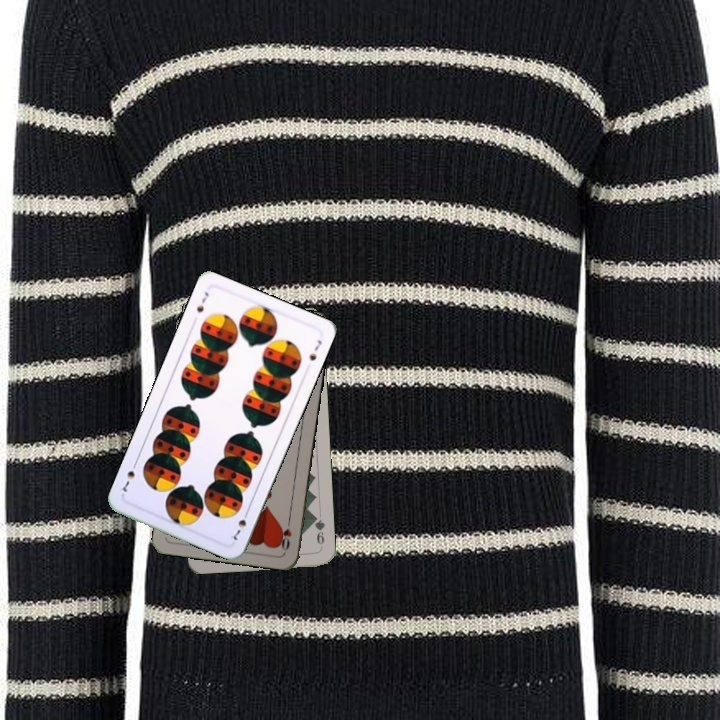G9: (310, 511, 327, 551)
HO: (276, 513, 294, 553)
S7: (227, 506, 251, 543), (192, 288, 211, 315)
